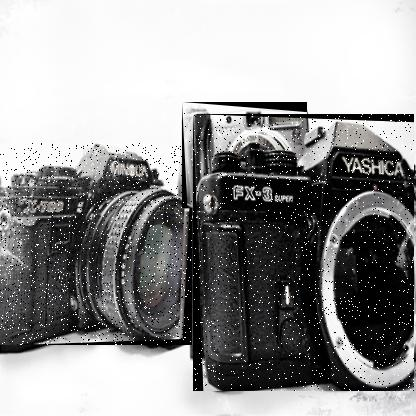Camera: (194, 116, 416, 394), (1, 144, 194, 347), (183, 103, 309, 210)
